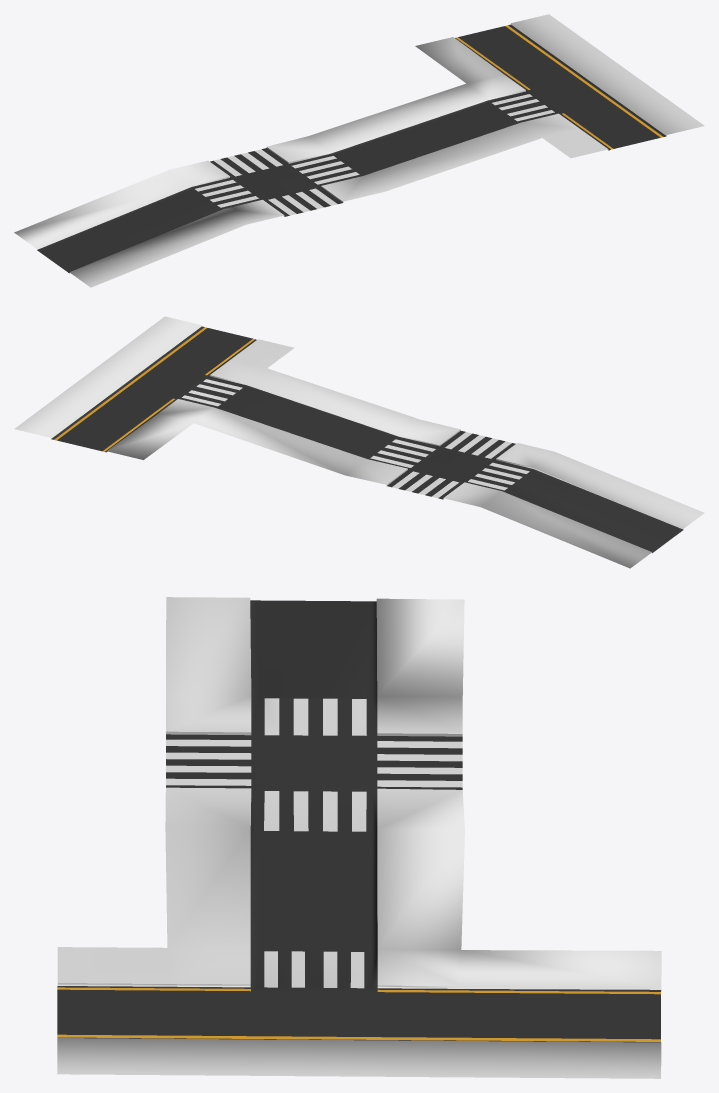
File: LVLDG RUA TUTORIAL - PALLARO (1).fbx
The picture shows the model from 3 angles, top to bottom: view 1: azimuth 30°, elevation 25°; view 2: azimuth 150°, elevation 25°; view 3: azimuth 270°, elevation 25°; orthographic projection. The views are drawn at different scales.
Visible parts, largest first — view 1: Plane.005; view 2: Plane.005; view 3: Plane.005.
Part boxes in pixels (<box>): Plane.005: <box>14,14,704,287</box>; Plane.005: <box>14,316,704,568</box>; Plane.005: <box>57,597,661,1078</box>.
Size of the model in its own units: 1244 by 84.9 by 574.
Materials: 2 (1 with a texture image).
